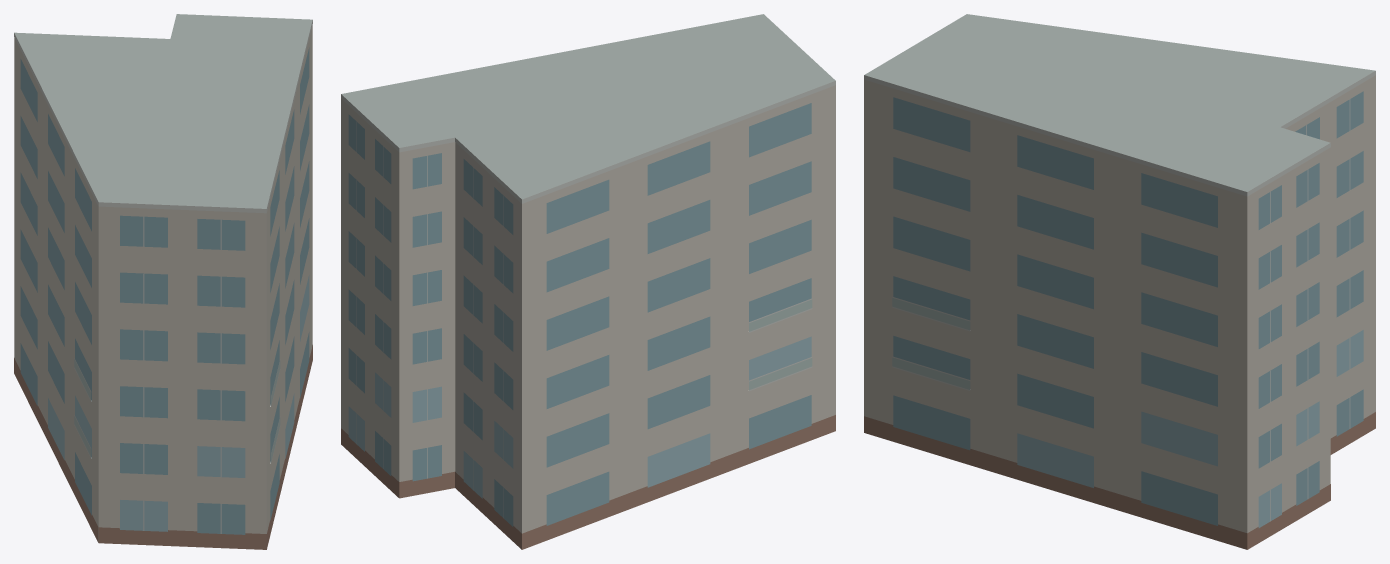
File: survey-upis-32840648.glb
3 views of the same model, side by side, from view 1: azimuth 30°, elevation 25°; view 2: azimuth 150°, elevation 25°; view 3: azimuth 270°, elevation 25° (orthographic). The views are drawn at different scales.
Parts seen in each view (by area): view 1: survey-upis-32840648.tmp; view 2: survey-upis-32840648.tmp; view 3: survey-upis-32840648.tmp.
Boxes of the visible parts, <box> form: survey-upis-32840648.tmp: <box>14,14,312,549</box>; survey-upis-32840648.tmp: <box>341,14,835,549</box>; survey-upis-32840648.tmp: <box>864,14,1375,549</box>.
Size of the model in its own units: 20.83 by 19.5 by 25.28.
